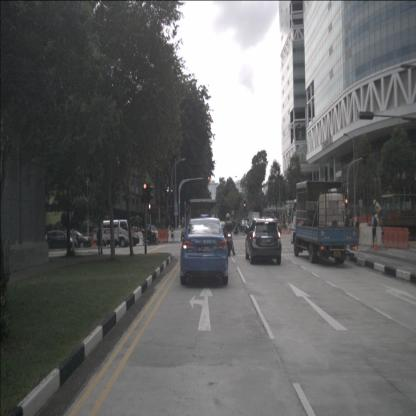barrier: (382, 227, 410, 249), (382, 226, 408, 248), (359, 226, 384, 246), (359, 226, 382, 247), (168, 230, 182, 242), (158, 230, 168, 242), (136, 234, 145, 245), (90, 236, 98, 247)
cone: (372, 233, 378, 252), (372, 235, 378, 252), (285, 227, 288, 235), (287, 228, 290, 235), (281, 227, 284, 233), (283, 228, 286, 233)
